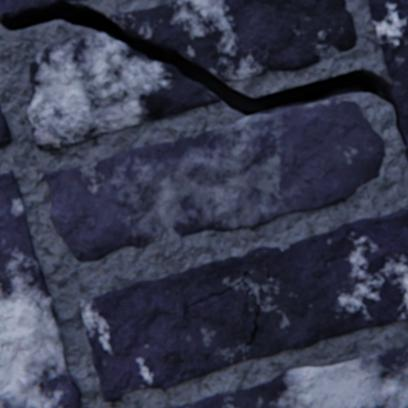brick: (79, 208, 407, 400), (44, 98, 384, 261), (0, 169, 81, 407), (163, 344, 407, 407), (368, 0, 407, 155), (0, 0, 62, 19), (0, 106, 11, 146)
broken_brick: (28, 34, 220, 149), (108, 0, 356, 81)
crack: (2, 0, 405, 146), (184, 269, 259, 358), (405, 148, 407, 162)
